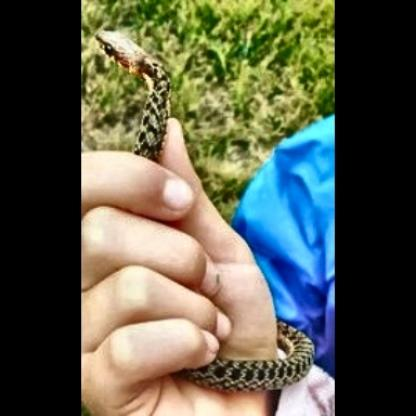Snake: (89, 25, 175, 152)
